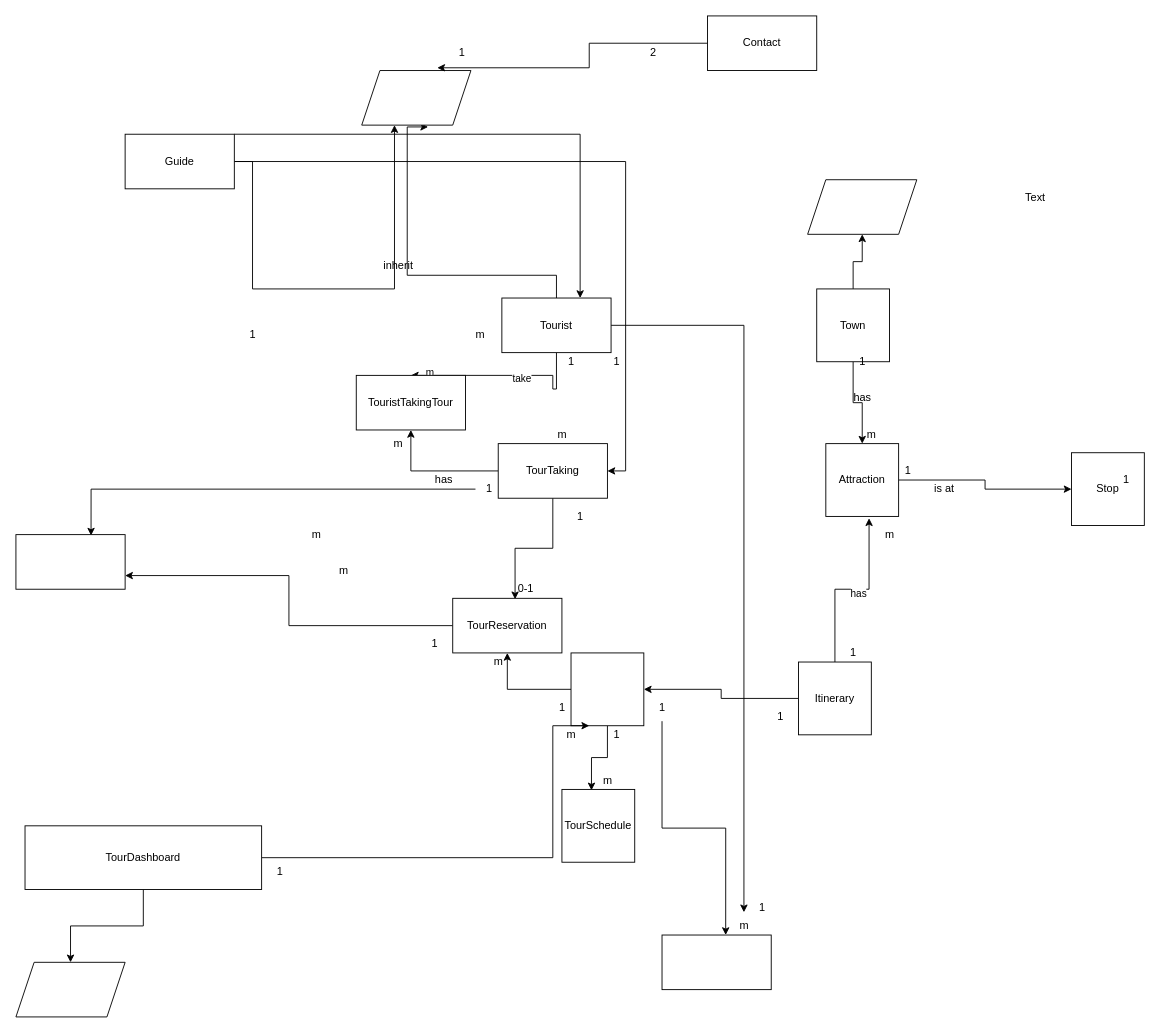
Image size: 1160x1033. Some labels were removed from this diagram. The shapes that lost their labels are listed below. From the top down, each one's box as (x1, y1, x2, y2) in pixels, then its label:
(361, 70, 471, 125): user
(807, 179, 917, 234): Area
(15, 534, 125, 589): Notification
(570, 652, 644, 726): Tour
(661, 934, 771, 990): MembershipCard
(15, 961, 125, 1017): Search
